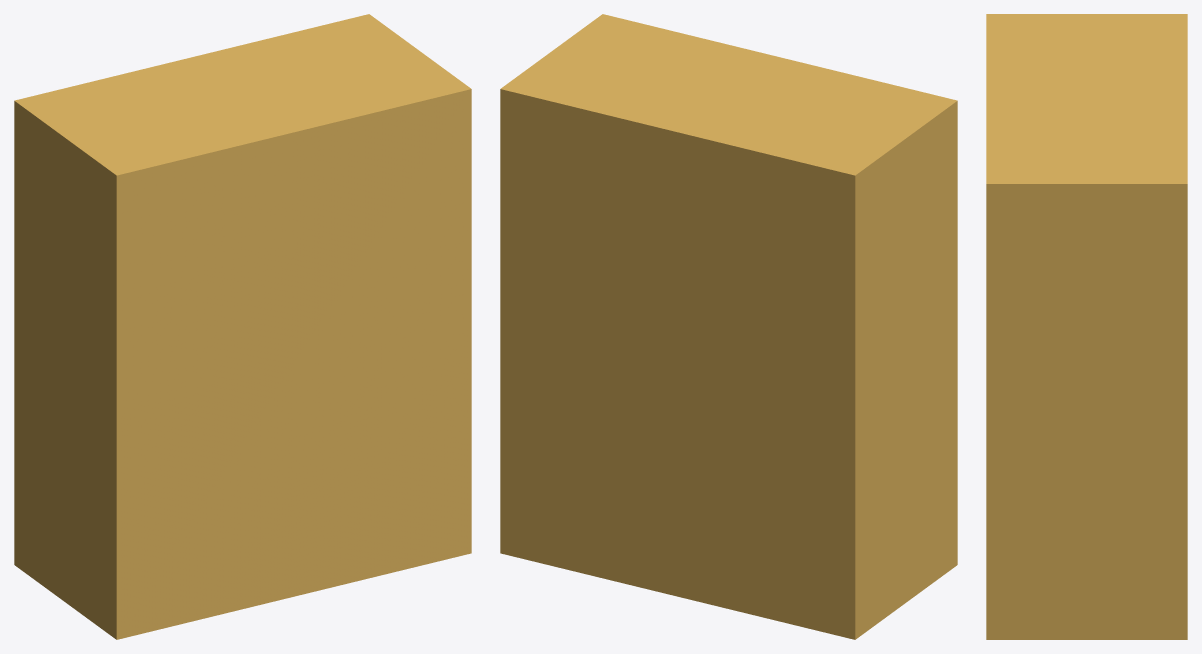
The model's file is lock-gold.glb.
3 renders of one model, left to right at view 1: azimuth 30°, elevation 25°; view 2: azimuth 150°, elevation 25°; view 3: azimuth 270°, elevation 25°, orthographic.
Visible parts, largest first — view 1: root; view 2: root; view 3: root.
Part boxes in pixels (box(x1,y1,x2,y2)): root: box(14, 14, 471, 639); root: box(500, 14, 957, 639); root: box(986, 14, 1187, 639).
Size of the model in its own units: 0.32 by 0.4 by 0.16.
1 material, 1 textured.
